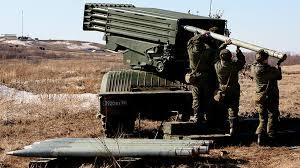MIL_SAM_TEL: (81, 1, 229, 135)
